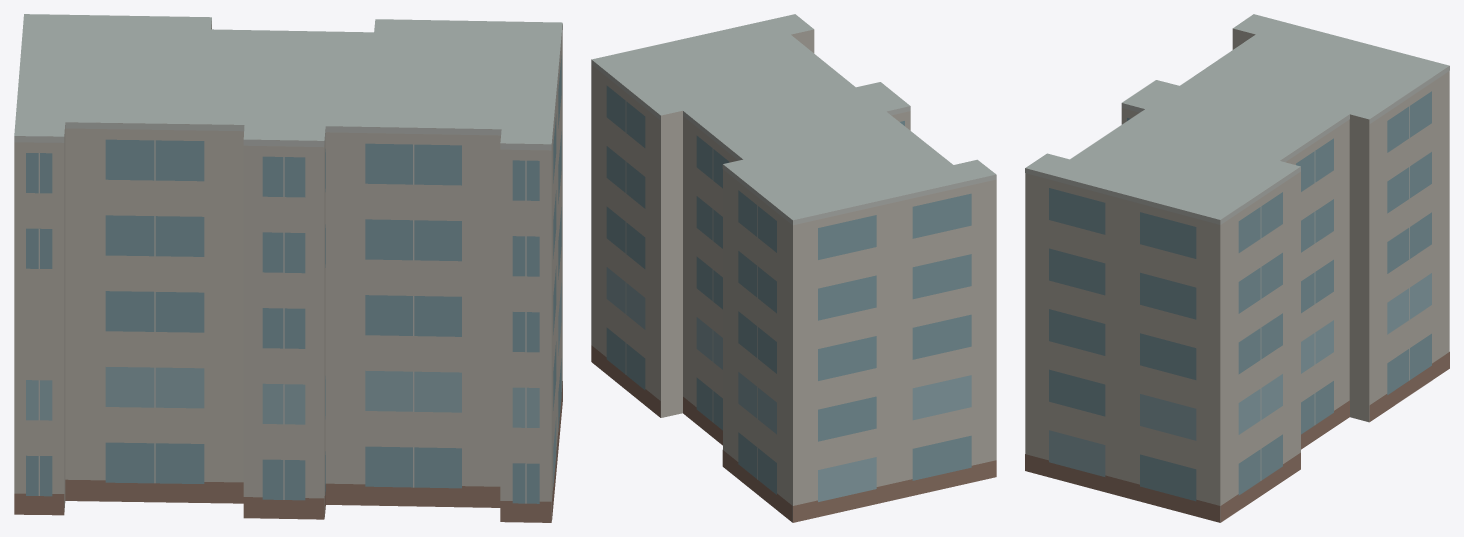
File: survey-upis-32773953.glb
The picture shows the model from 3 angles, left to right: view 1: azimuth 30°, elevation 25°; view 2: azimuth 150°, elevation 25°; view 3: azimuth 270°, elevation 25°; orthographic projection. The views are drawn at different scales.
Visible parts, largest first — view 1: survey-upis-32773953.tmp; view 2: survey-upis-32773953.tmp; view 3: survey-upis-32773953.tmp.
Boxes of the visible parts, <box> form: survey-upis-32773953.tmp: <box>14,14,562,522</box>; survey-upis-32773953.tmp: <box>591,14,996,522</box>; survey-upis-32773953.tmp: <box>1025,14,1449,522</box>.
Bounding box in the file's own units: 21.52 × 14.75 × 18.75.
